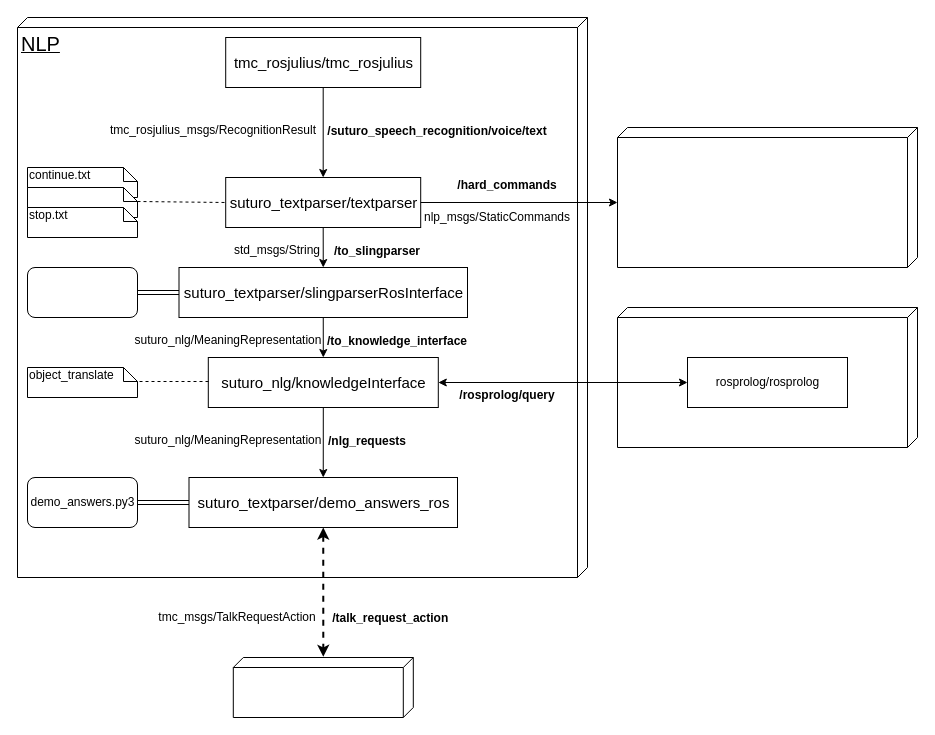
Some shapes in this 935 by 735 pixel diagram are drawn without their labels. Each missing label, with the box of its shape:
HSR: (232, 656, 413, 718)
Knowledge: (616, 306, 918, 448)
Planning: (616, 126, 918, 268)
slingparser.py3: (26, 266, 138, 318)
start.txt: (26, 186, 138, 218)
